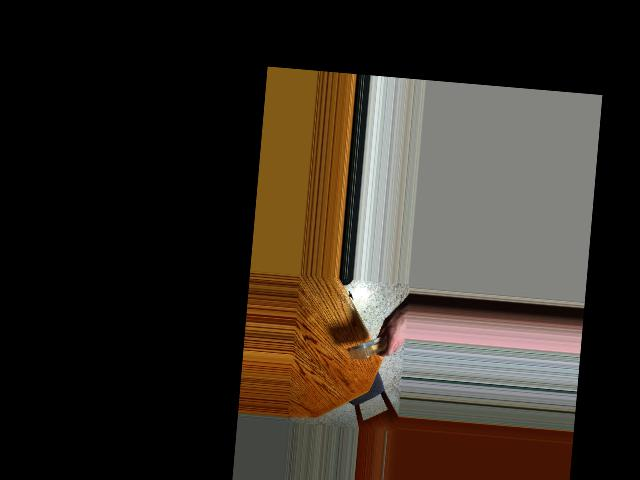cheese: (344, 333, 393, 362)
